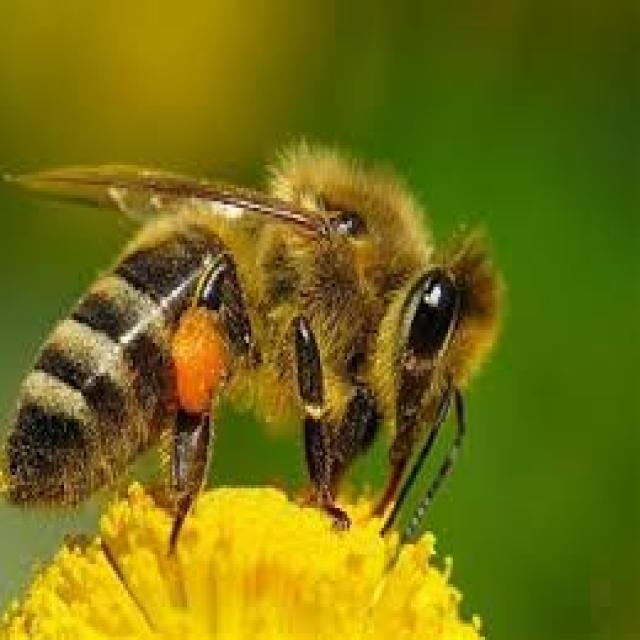Bees: (0, 145, 511, 561)
